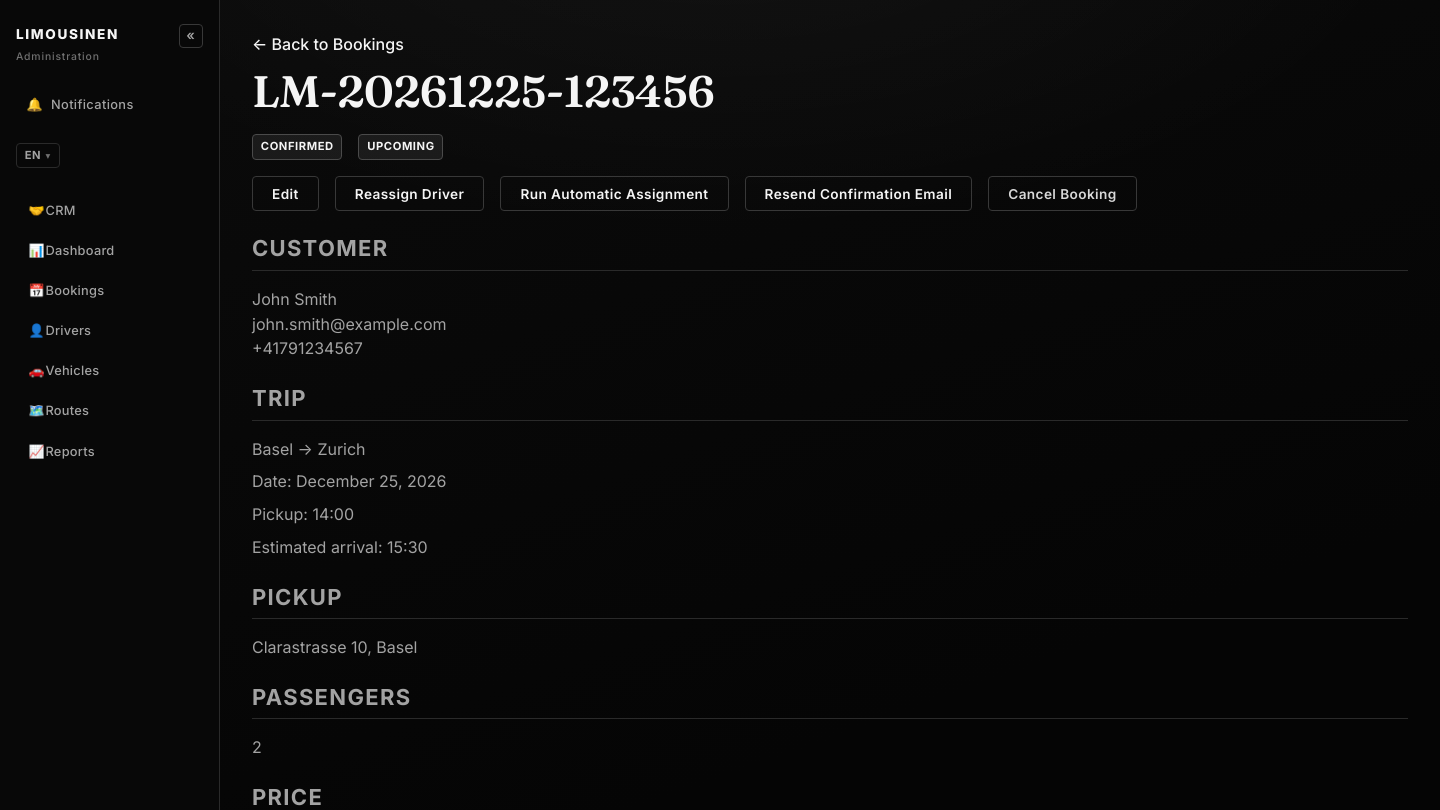
Scenario: BookingDetailPage › does not cancel when the confirmation is declined
The width and height of the screenshot is (1440, 810).
Expected: the heading "LM-20261225-123456" is shown, 252,64 -> 714,118
Click the button "Cancel Booking": (1062, 194) 988,176 -> 1137,211
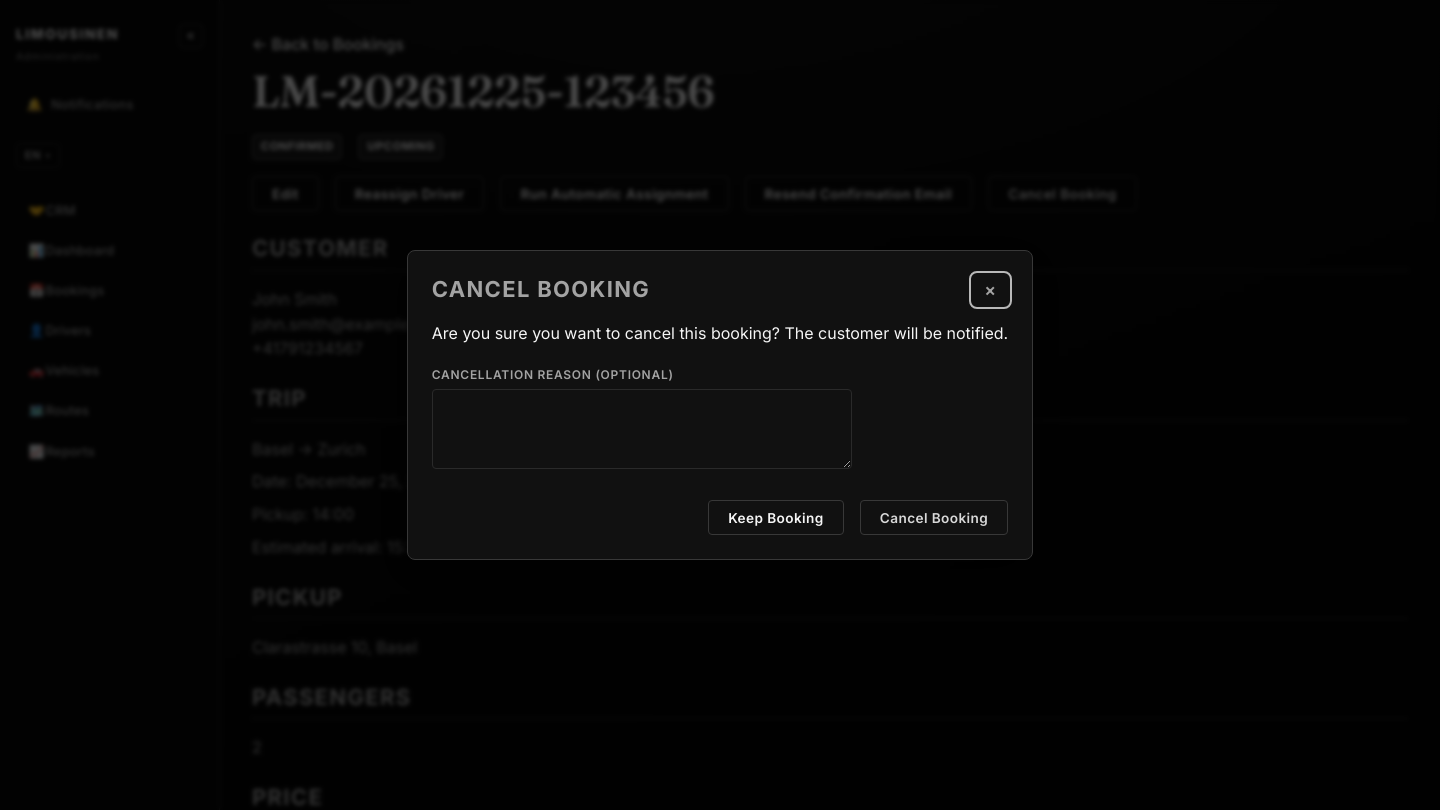
Click the button "Keep Booking": (776, 518) 708,500 -> 844,536
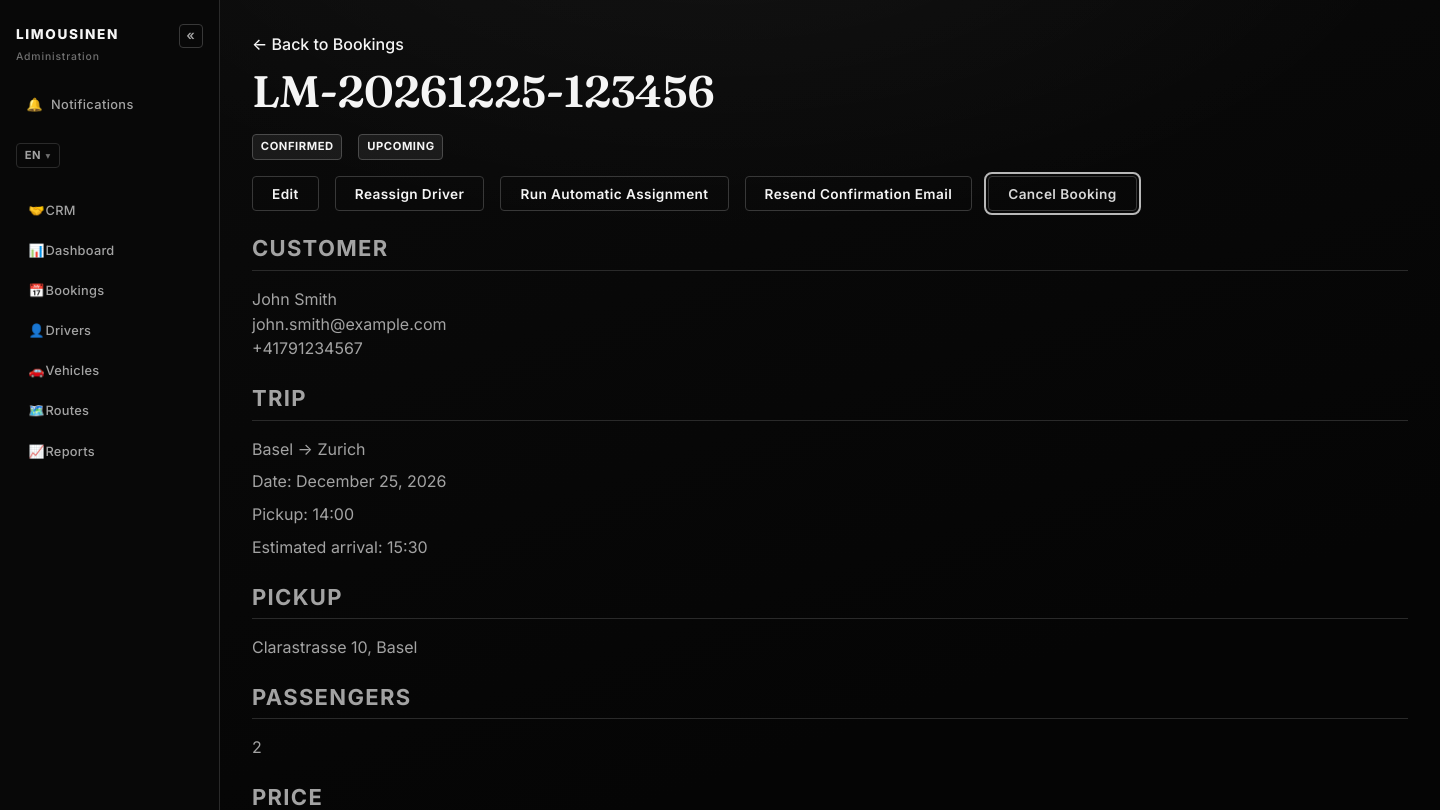
Now the dialog is gone
